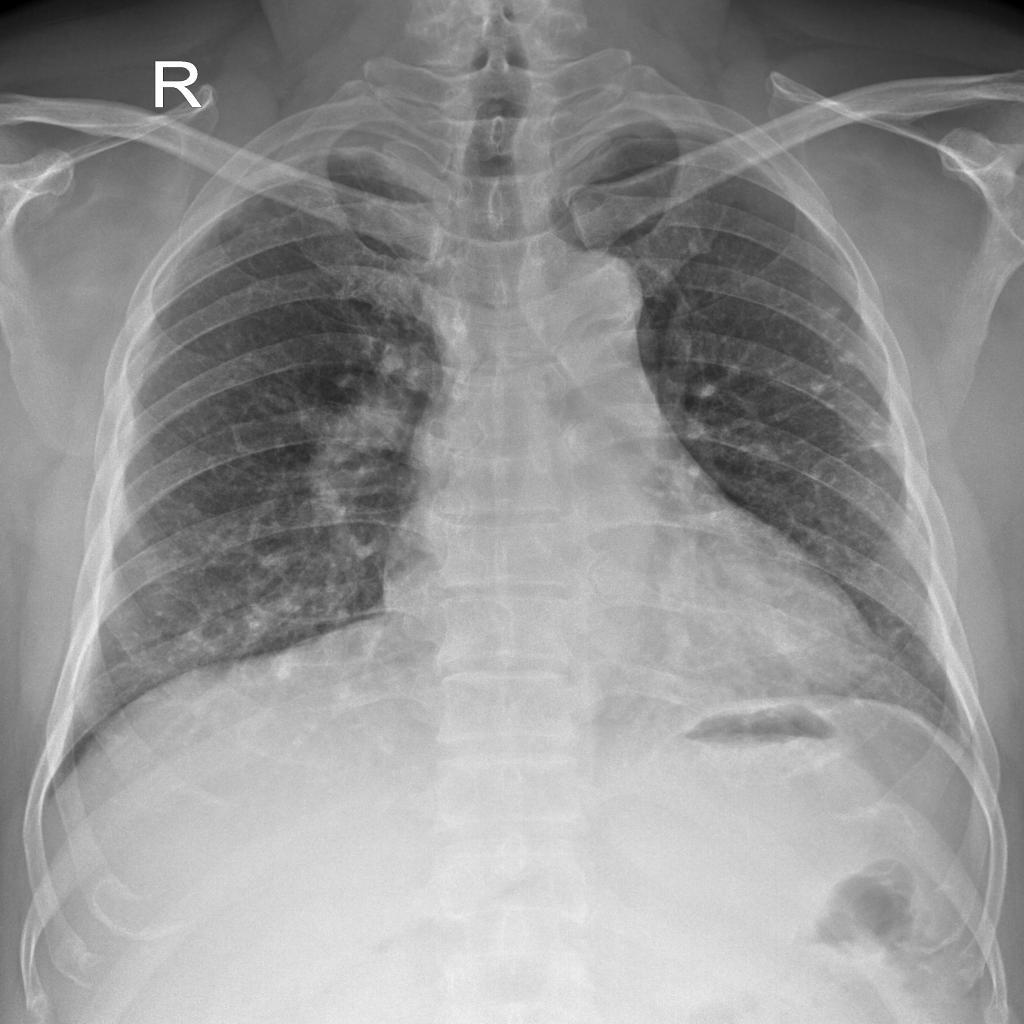Nodule: (771, 283, 879, 448)
